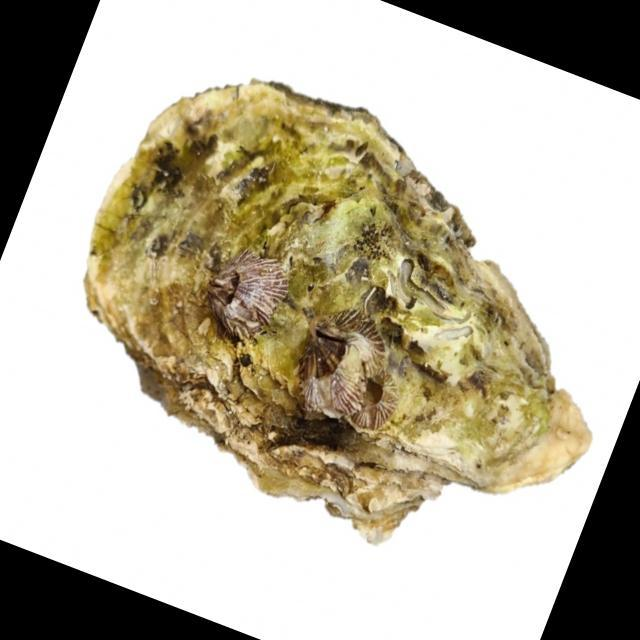Oyster- Indeterminate: (83, 81, 591, 548)
